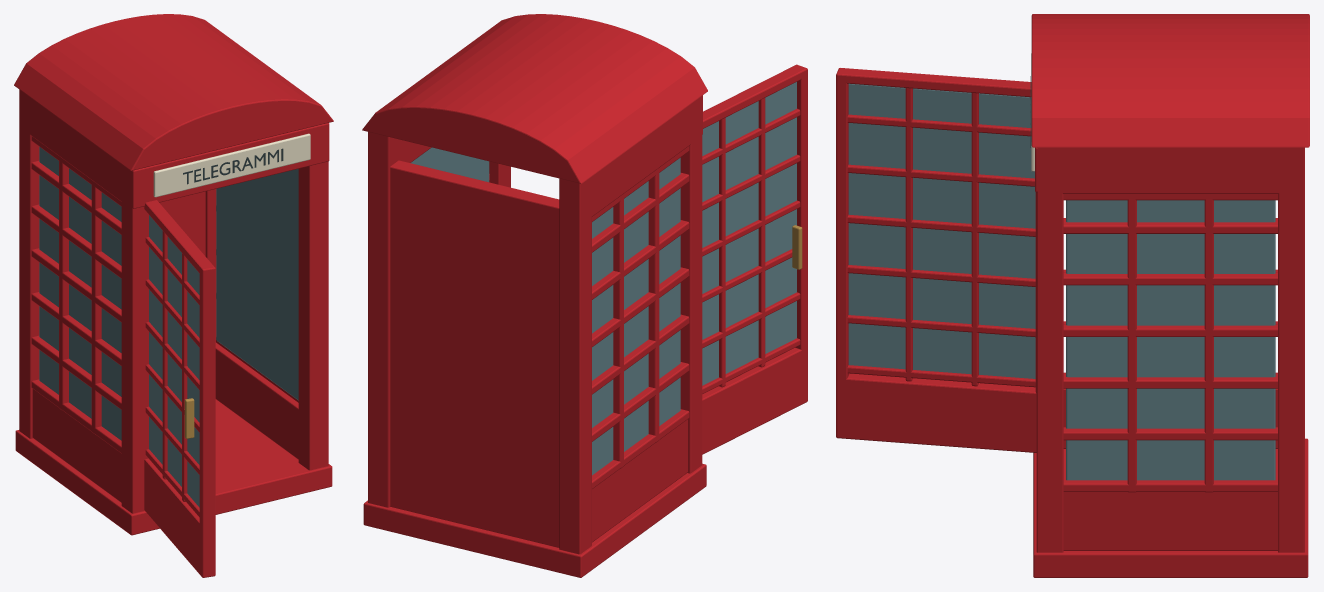
The model's file is contact-booth-DRNsYfDO.glb.
3 views of the same model, side by side, from view 1: azimuth 30°, elevation 25°; view 2: azimuth 150°, elevation 25°; view 3: azimuth 270°, elevation 25° (orthographic). The views are drawn at different scales.
Visible parts, largest first — view 1: Review_Roof, Review_SideGlass.001, Review_SideGlass, Review_Base, Review_Corner.002, Review_Corner, Review_DoorGlass, Review_Corner.001, Review_DoorRight, Review_SidePlinth.001, Review_SidePlinth, Booth_SideHeader (+25 smaller); view 2: Review_BackPanel, Review_Roof, Review_DoorGlass, Review_SideGlass, Review_Corner.001, Review_Base, Review_Corner.003, Review_Corner, Review_DoorBottom, Booth_SideHeader, Review_SidePlinth, Review_DoorRight (+20 smaller); view 3: Review_SideGlass.001, Review_DoorGlass, Review_Roof, Review_DoorBottom, Review_SidePlinth.001, Booth_SideHeader.001, Review_Corner.002, Review_Corner.003, Review_Base, Review_DoorRight, Review_DoorTop, Review_SideMullion.002 (+16 smaller).
Part boxes in pixels (x1,y1,x2,y2): Review_Roof: (14, 14, 333, 170); Review_SideGlass.001: (216, 169, 298, 400); Review_SideGlass: (39, 147, 121, 440); Review_Base: (15, 399, 332, 535); Review_Corner.002: (298, 161, 328, 470); Review_Corner: (121, 202, 148, 513); Review_DoorGlass: (149, 215, 199, 507); Review_Corner.001: (19, 103, 39, 438); Review_DoorRight: (199, 264, 215, 577); Review_SidePlinth.001: (215, 342, 298, 459); Review_SidePlinth: (32, 389, 121, 502); Booth_SideHeader: (19, 89, 132, 208); Review_BackPanel: (390, 160, 559, 547); Review_Roof: (362, 14, 707, 183); Review_DoorGlass: (702, 82, 796, 385); Review_SideGlass: (592, 157, 680, 475); Review_Corner.001: (559, 191, 591, 554); Review_Base: (363, 463, 706, 577); Review_Corner.003: (368, 145, 400, 507); Review_Corner: (680, 117, 702, 473); Review_DoorBottom: (702, 347, 807, 454); Booth_SideHeader: (559, 96, 702, 224); Review_SidePlinth: (592, 419, 687, 542); Review_DoorRight: (791, 64, 807, 404); Review_SideGlass.001: (1066, 200, 1275, 480); Review_DoorGlass: (848, 83, 1035, 378); Review_Roof: (1031, 14, 1309, 147); Review_DoorBottom: (836, 373, 1036, 452); Review_SidePlinth.001: (1063, 492, 1277, 550); Booth_SideHeader.001: (1037, 147, 1304, 193); Review_Corner.002: (1036, 165, 1063, 552); Review_Corner.003: (1278, 165, 1304, 552); Review_Base: (1033, 438, 1308, 577); Review_DoorRight: (836, 68, 849, 437); Review_DoorTop: (837, 68, 1031, 97); Review_SideMullion.002: (1127, 194, 1136, 492).
Bounding box in the file's own units: 1.78 × 3.15 × 2.83.
